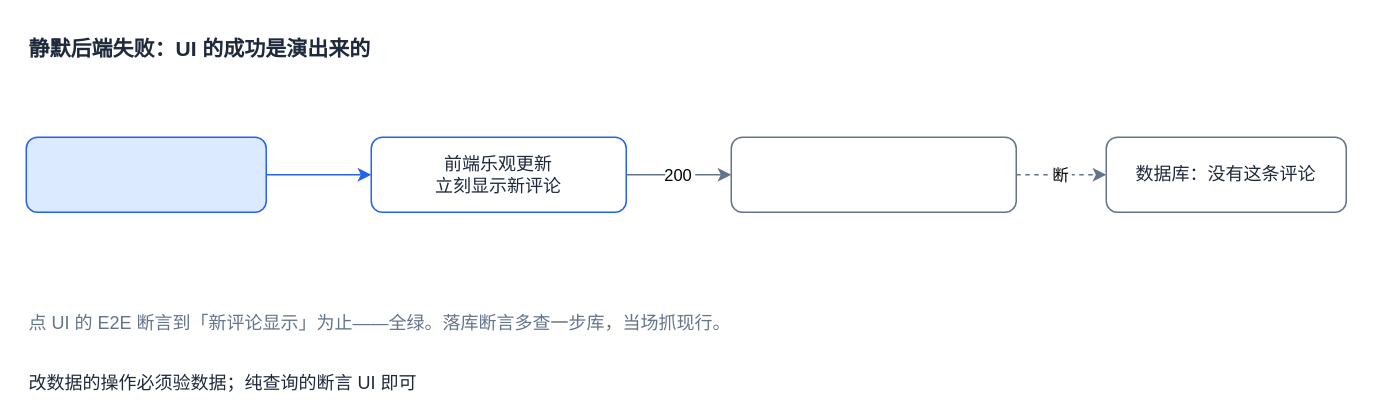
The diagram is 1373 pixels wide and 419 high, and some of its shapes have lost their labels. Each missing label, with the centre of its shape:
"MQ 消费者（部署后挂了）" goes at (873,174).
"用户发评论" goes at (145,174).
